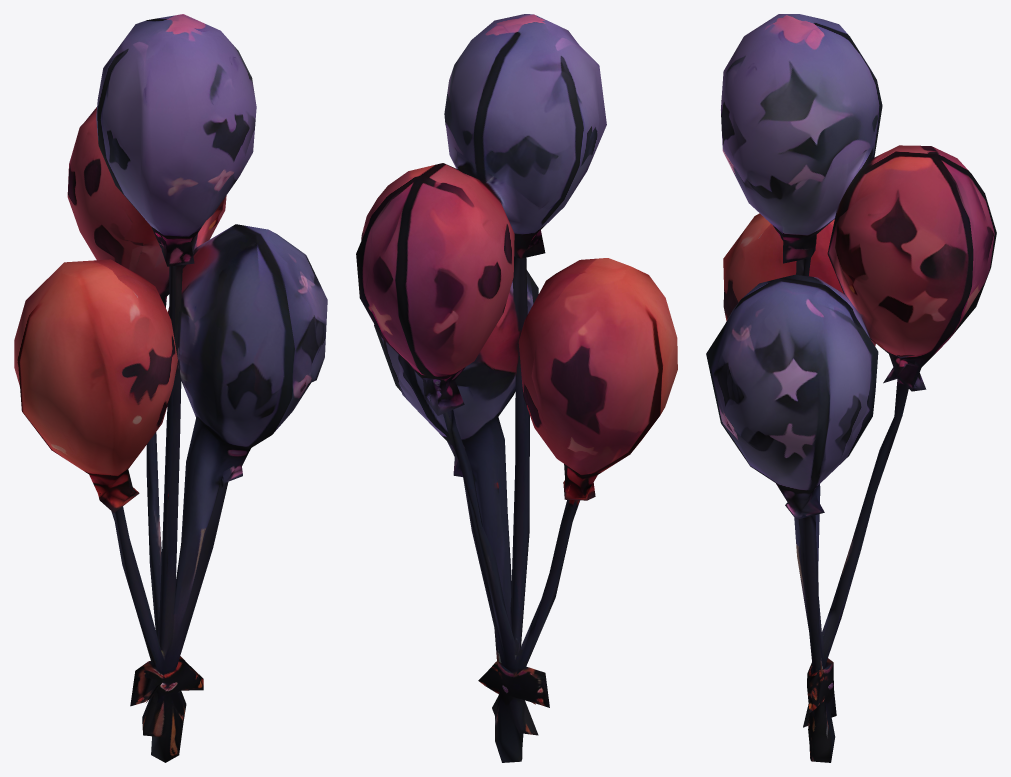
File: balloon+bundle+3d+model.obj
3 renders of one model, left to right at view 1: azimuth 30°, elevation 25°; view 2: azimuth 150°, elevation 25°; view 3: azimuth 270°, elevation 25°, orthographic.
Visible parts, largest first — view 1: tripo_node_3bfb2dcd-e719-4b03-a954-fd4b34ab3edf; view 2: tripo_node_3bfb2dcd-e719-4b03-a954-fd4b34ab3edf; view 3: tripo_node_3bfb2dcd-e719-4b03-a954-fd4b34ab3edf.
Part boxes in pixels (x1,y1,x2,y2): tripo_node_3bfb2dcd-e719-4b03-a954-fd4b34ab3edf: (14,14,327,762); tripo_node_3bfb2dcd-e719-4b03-a954-fd4b34ab3edf: (356,14,677,762); tripo_node_3bfb2dcd-e719-4b03-a954-fd4b34ab3edf: (706,14,996,762).
Bounding box in the file's own units: 0.4034 × 0.9981 × 0.3553.
Materials: 1 (1 with a texture image).
